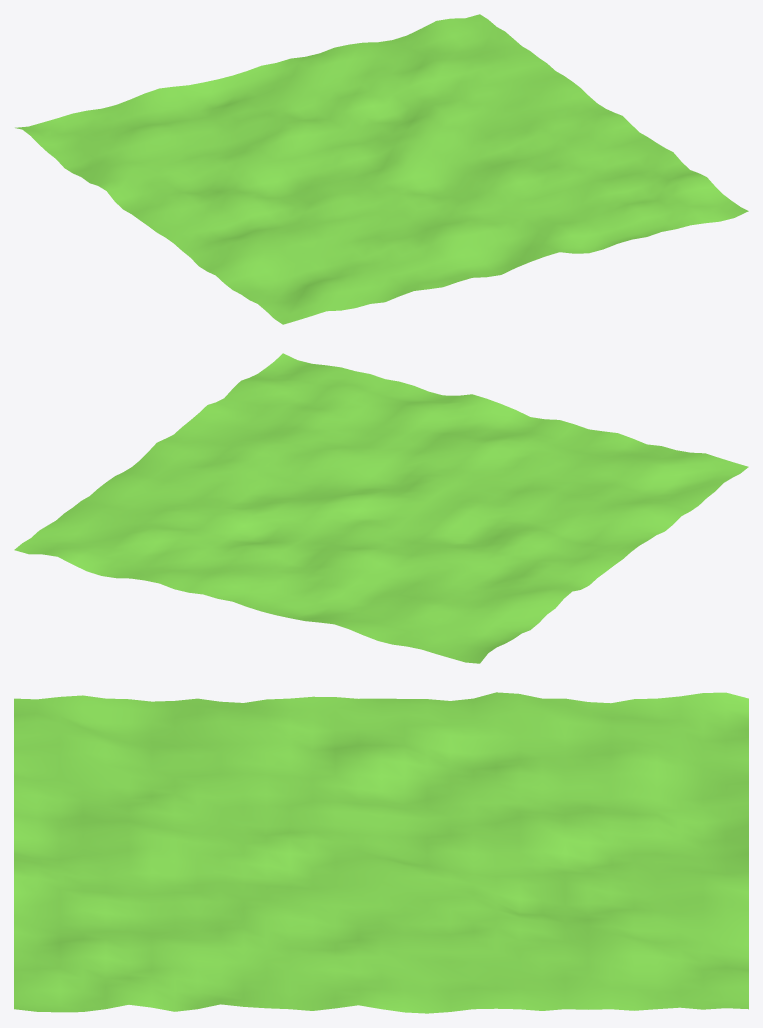
The picture shows the model from 3 angles, top to bottom: view 1: azimuth 30°, elevation 25°; view 2: azimuth 150°, elevation 25°; view 3: azimuth 270°, elevation 25°; orthographic projection. The views are drawn at different scales.
Parts seen in each view (by area): view 1: Plane; view 2: Plane; view 3: Plane.
Part boxes in pixels (x1,y1,x2,y2): Plane: [15, 14, 748, 324]; Plane: [14, 353, 748, 663]; Plane: [14, 692, 748, 1013].
Size of the model in its own units: 19.21 by 0.5864 by 19.21.
